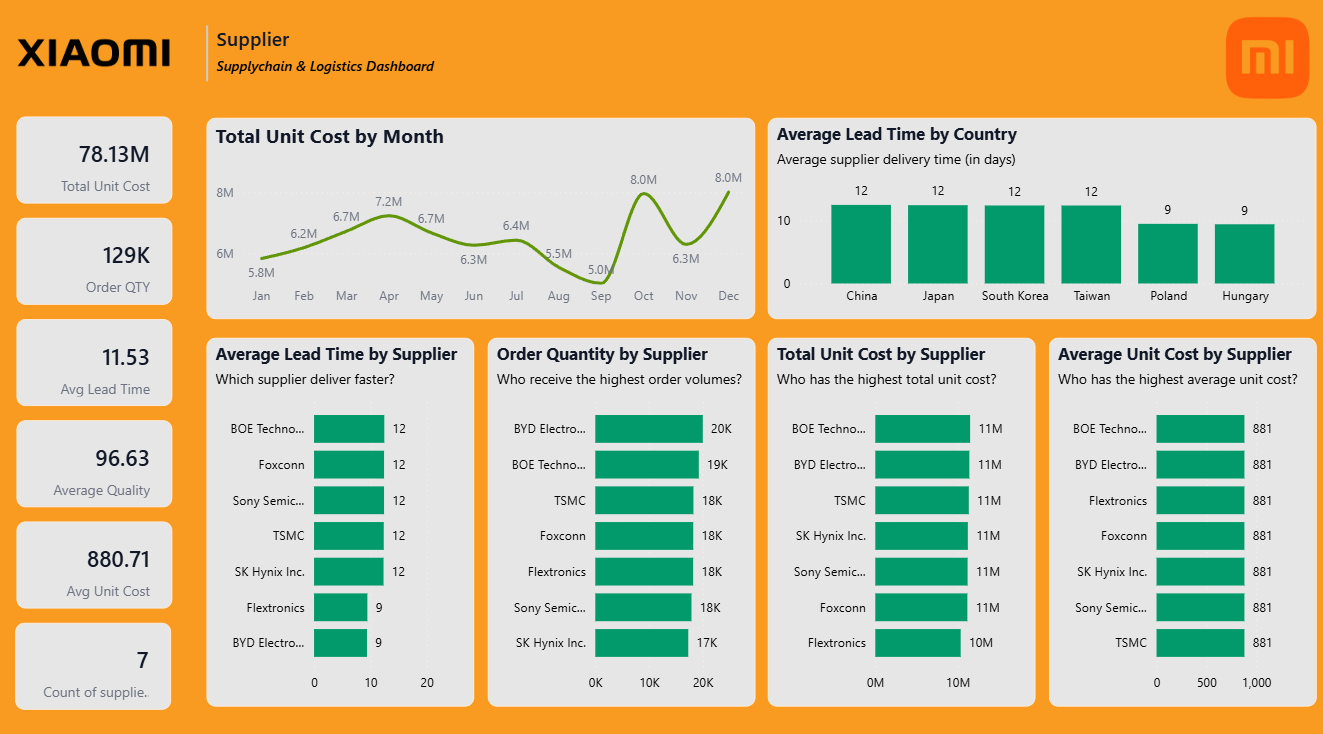

The page's visual inventory and layout, read from the dashboard file:
{"tool":"powerbi","page":{"name":"Supplier","canvas":[1280,720],"ordinal":2},"visuals":[{"type":"shape","title":"Supplier","box":[209.9,30.2,228,66.4],"z":0},{"type":"shape","box":[150.8,30.2,100.1,54.3],"z":1000},{"type":"cardVisual","fields":{"Data":["Measures_Table.Order QTY"]},"box":[17.4,216.1,150,84],"z":2000},{"type":"cardVisual","fields":{"Data":["Measures_Table.Avg Lead Time"]},"box":[17.4,313.8,150,84],"z":3000},{"type":"cardVisual","fields":{"Data":["Measures_Table.Average Quality Score"]},"box":[17.4,411.5,150,84],"z":4000},{"type":"cardVisual","fields":{"Data":["Measures_Table.Avg Unit Cost"]},"box":[17.4,509.2,150,84],"z":5000},{"type":"cardVisual","fields":{"Data":["Measures_Table.Total Unit Cost"]},"box":[16.4,118.5,150,84],"z":6000},{"type":"cardVisual","fields":{"Data":["CountNonNull(dim_supplier.supplier_id)"]},"box":[16.2,606.8,150,84],"z":7000},{"type":"barChart","title":"Average Lead Time by Supplier","fields":{"Y":["Measures_Table.Avg Lead Time"],"Category":["dim_supplier.supplier_name"]},"box":[200.4,331.6,258.7,355.9],"z":8000},{"type":"barChart","title":"Order Quantity by Supplier","fields":{"Y":["Measures_Table.Order QTY"],"Category":["dim_supplier.supplier_name"]},"box":[471.3,331.6,258.7,355.9],"z":9000},{"type":"barChart","title":"Total Unit Cost by Supplier","fields":{"Y":["Measures_Table.Total Unit Cost"],"Category":["dim_supplier.supplier_name"]},"box":[742.2,331.6,258.7,355.9],"z":10000},{"type":"clusteredColumnChart","title":"Average Lead Time by Country","fields":{"Category":["dim_supplier.country"],"Y":["Measures_Table.Avg Lead Time"]},"box":[742.2,119,529.6,194.3],"z":11000},{"type":"barChart","title":"Average Unit Cost by Supplier","fields":{"Category":["dim_supplier.supplier_name"],"Y":["Measures_Table.Avg Unit Cost"]},"box":[1013,331.6,258.7,355.9],"z":12000},{"type":"lineChart","fields":{"Category":["dim_date.Month Short"],"Y":["Measures_Table.Total Unit Cost"]},"box":[200.4,119,529.6,194.3],"z":13000},{"type":"image","box":[4.9,18.2,174.9,76.5],"z":14000},{"type":"image","box":[1168.5,3.6,111.7,115.4],"z":15000}]}

Visuals, with their boxes in screenshot pixels (x1, y1, x2, y2), scaled from the page's 1280x720 canvas onto the 1323x734 screenshot:
"Supplier" shape: locate(217, 31, 453, 98)
shape: locate(156, 31, 259, 86)
cardVisual - Measures_Table.Order QTY: locate(18, 220, 173, 306)
cardVisual - Measures_Table.Avg Lead Time: locate(18, 320, 173, 406)
cardVisual - Measures_Table.Average Quality Score: locate(18, 420, 173, 505)
cardVisual - Measures_Table.Avg Unit Cost: locate(18, 519, 173, 605)
cardVisual - Measures_Table.Total Unit Cost: locate(17, 121, 172, 206)
cardVisual - CountNonNull(dim_supplier.supplier_id): locate(17, 619, 172, 704)
"Average Lead Time by Supplier" barChart: locate(207, 338, 475, 701)
"Order Quantity by Supplier" barChart: locate(487, 338, 755, 701)
"Total Unit Cost by Supplier" barChart: locate(767, 338, 1035, 701)
"Average Lead Time by Country" clusteredColumnChart: locate(767, 121, 1315, 319)
"Average Unit Cost by Supplier" barChart: locate(1047, 338, 1314, 701)
lineChart - dim_date.Month Short x Measures_Table.Total Unit Cost: locate(207, 121, 755, 319)
image: locate(5, 19, 186, 97)
image: locate(1208, 4, 1322, 121)
